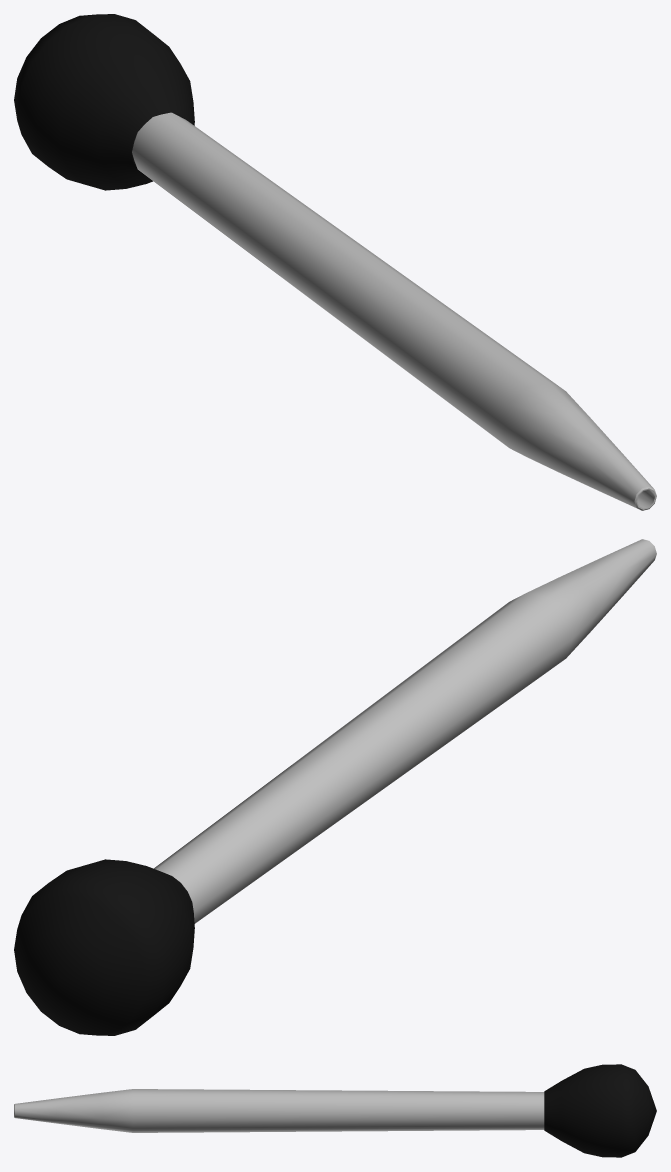
The model's file is goteroV2 1.fbx.
The picture shows the model from 3 angles, top to bottom: view 1: azimuth 30°, elevation 25°; view 2: azimuth 150°, elevation 25°; view 3: azimuth 270°, elevation 25°; orthographic projection. The views are drawn at different scales.
Parts seen in each view (by area): view 1: tubo, bola; view 2: tubo, bola; view 3: tubo, bola.
Part boxes in pixels (x1,y1,x2,y2): tubo: (132, 112, 656, 510); bola: (14, 14, 194, 190); tubo: (154, 539, 656, 923); bola: (14, 859, 194, 1035); tubo: (14, 1089, 544, 1132); bola: (544, 1064, 656, 1157).
Size of the model in its own units: 2.06 by 2.06 by 14.12.
